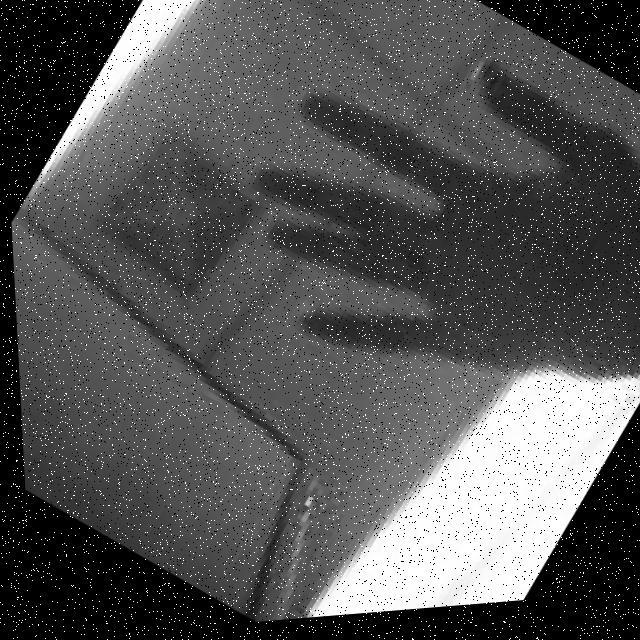no-gloves: (172, 0, 640, 529)
